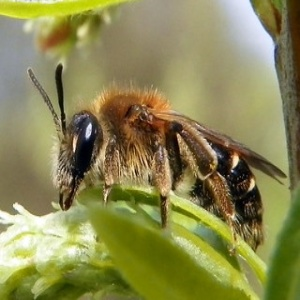bee: (25, 62, 288, 259)
